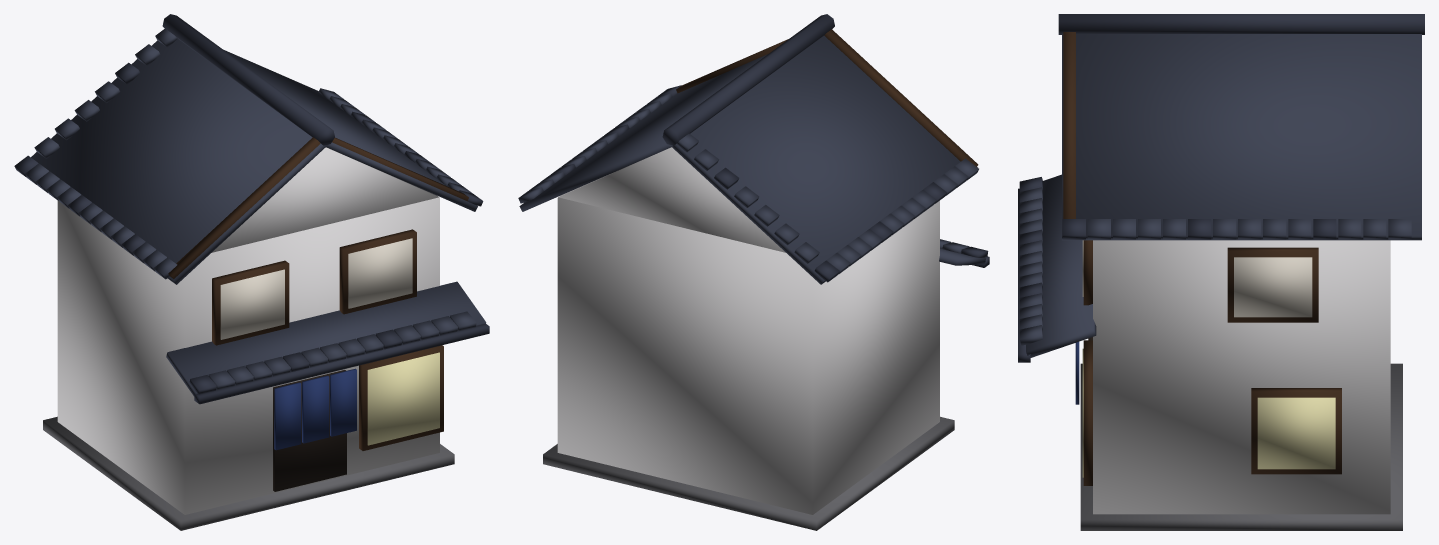
Rendered from sushi.glb.
3 renders of one model, left to right at view 1: azimuth 30°, elevation 25°; view 2: azimuth 150°, elevation 25°; view 3: azimuth 270°, elevation 25°, orthographic. The views are drawn at different scales.
Visible parts, largest first — view 1: sushi; view 2: sushi; view 3: sushi.
Part boxes in pixels (<box>): sushi: <box>14,14,489,530</box>; sushi: <box>518,14,989,530</box>; sushi: <box>1018,14,1424,530</box>.
Bounding box in the file's own units: 2.72 × 3.09 × 2.6.
